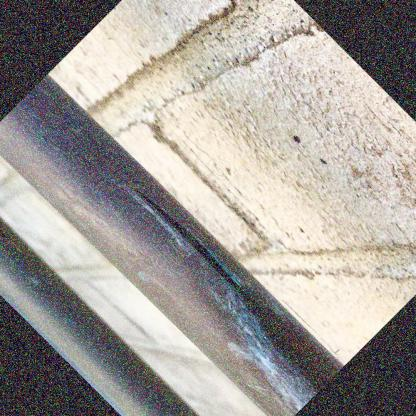burst: (136, 199, 246, 302)
